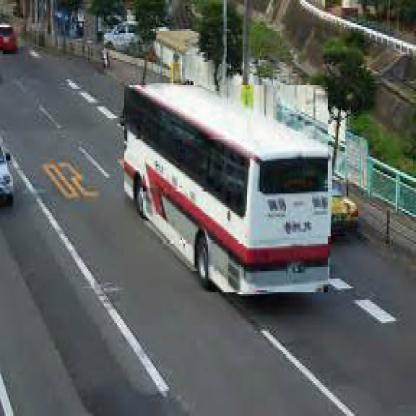bus: (124, 86, 329, 295)
car: (3, 26, 22, 57)
